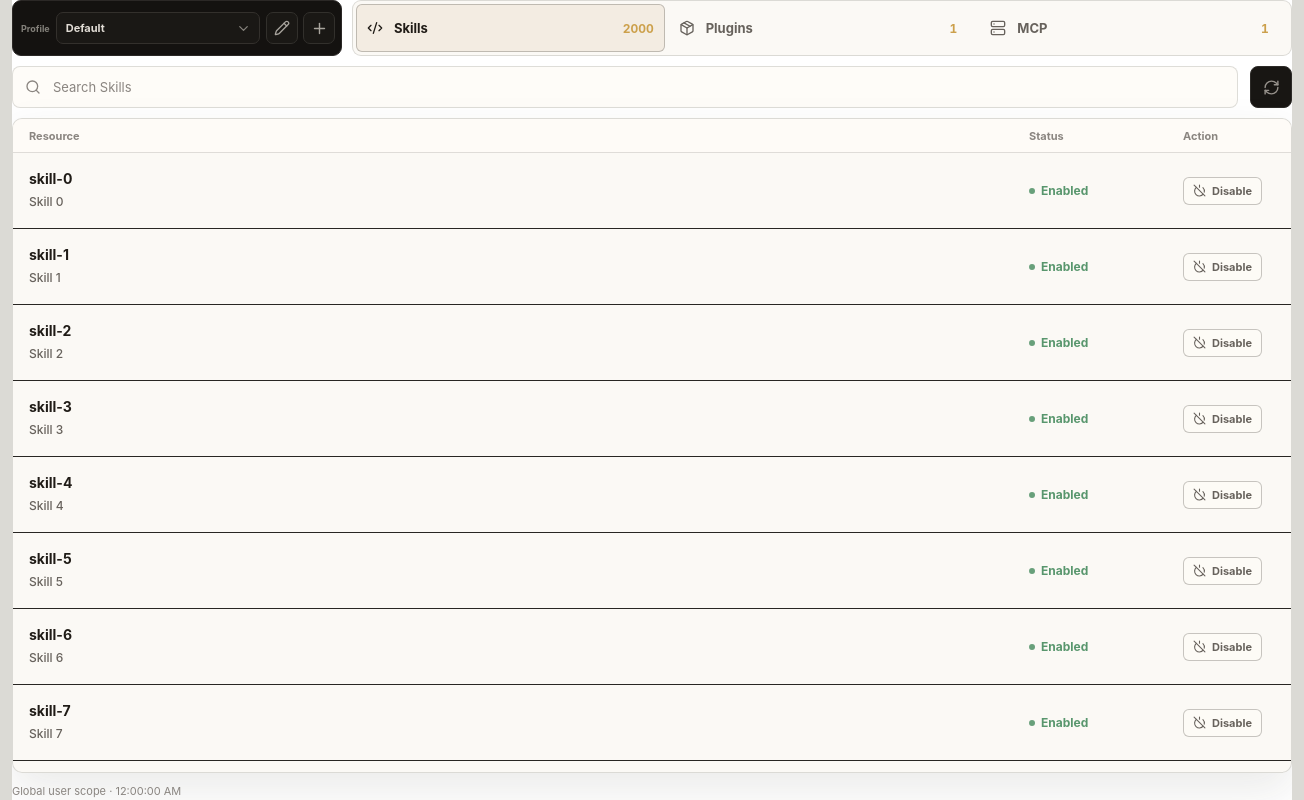
Scenario: Unified Claude Profiles page › separates live status from temporary resource actions
Expected: the button with aria-label "Profile: Default" is shown, [56,12,260,44]
Expected: the text "Status" is shown, [1029,128,1064,142]
Click the button with aria-label "Disable skill-0" at (1222, 190), box [1183,176,1262,204]
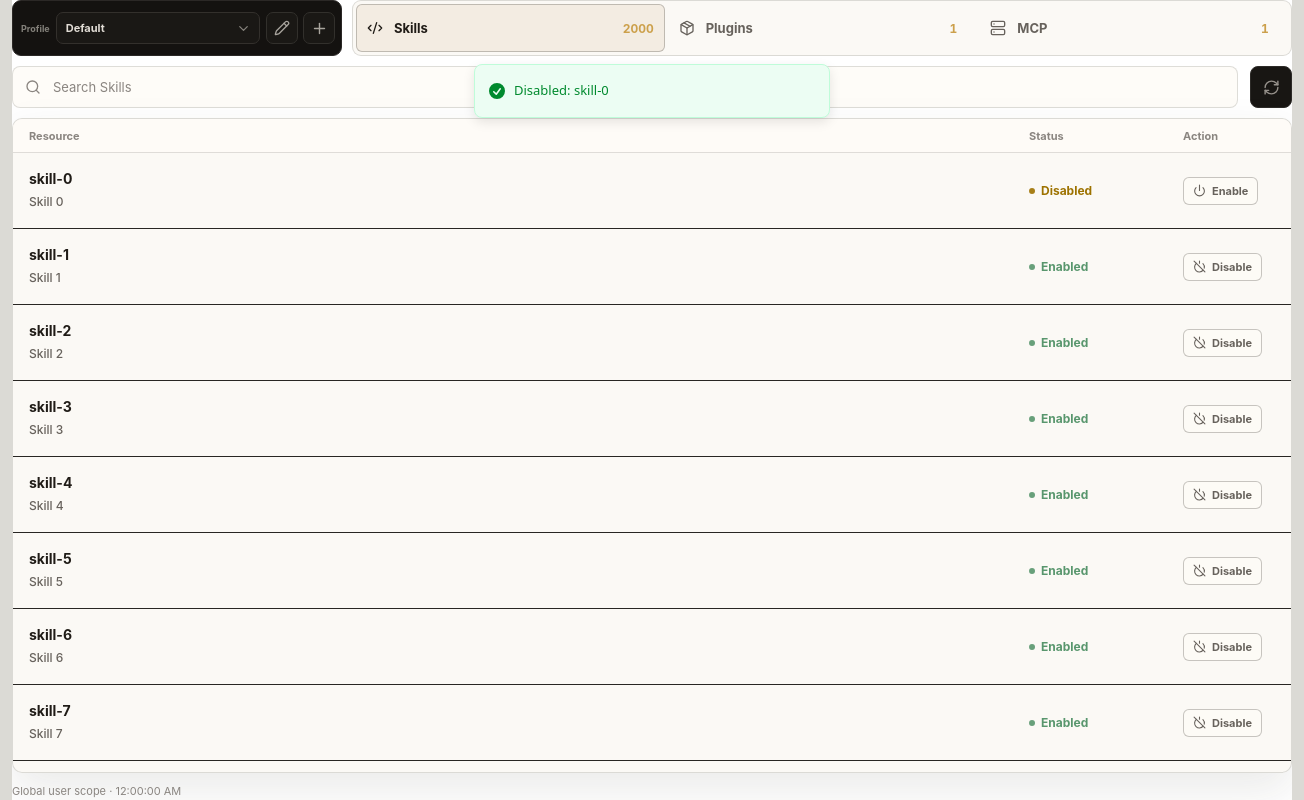
Result: the button with aria-label "Enable skill-0" is shown at [1183,176,1258,204]
